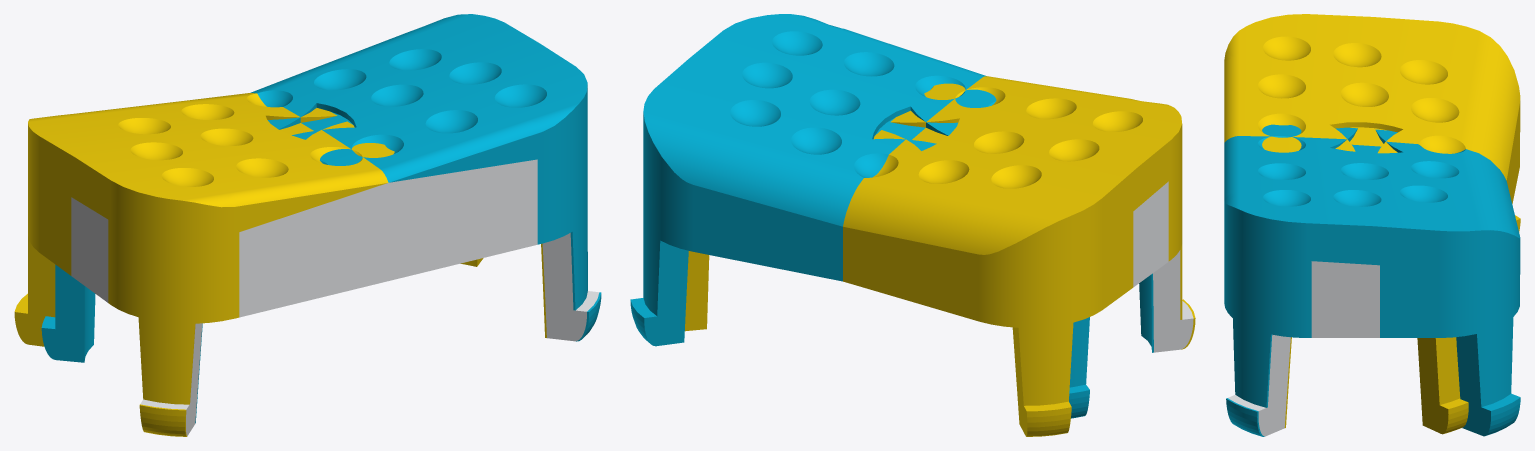
3 renders of one model, left to right at view 1: azimuth 30°, elevation 25°; view 2: azimuth 150°, elevation 25°; view 3: azimuth 270°, elevation 25°, orthographic. The views are drawn at different scales.
Parts seen in each view (by area): view 1: =>[0:1:1:17], =>[0:1:1:9], =>[0:1:1:2], =>[0:1:1:8], =>[0:1:1:22], =>[0:1:1:10]; view 2: =>[0:1:1:17], =>[0:1:1:9], =>[0:1:1:2], =>[0:1:1:8], =>[0:1:1:16], =>[0:1:1:13], =>[0:1:1:10]; view 3: =>[0:1:1:9], =>[0:1:1:17], =>[0:1:1:2], =>[0:1:1:16], =>[0:1:1:14], =>[0:1:1:18], =>[0:1:1:10].
Part boxes in pixels (<box>): =>[0:1:1:17]: <box>14,93,388,404</box>; =>[0:1:1:9]: <box>250,14,587,310</box>; =>[0:1:1:2]: <box>71,159,599,435</box>; =>[0:1:1:8]: <box>41,264,95,362</box>; =>[0:1:1:22]: <box>139,404,187,436</box>; =>[0:1:1:10]: <box>320,149,362,165</box>; =>[0:1:1:17]: <box>843,76,1182,436</box>; =>[0:1:1:9]: <box>630,14,986,346</box>; =>[0:1:1:2]: <box>1133,181,1193,352</box>; =>[0:1:1:8]: <box>1069,317,1089,418</box>; =>[0:1:1:16]: <box>685,251,709,331</box>; =>[0:1:1:13]: <box>1139,273,1153,352</box>; =>[0:1:1:10]: <box>955,89,996,107</box>; =>[0:1:1:9]: <box>1224,136,1520,436</box>; =>[0:1:1:17]: <box>1224,14,1520,232</box>; =>[0:1:1:2]: <box>1228,261,1379,436</box>; =>[0:1:1:16]: <box>1417,337,1468,434</box>; =>[0:1:1:14]: <box>1226,398,1264,436</box>; =>[0:1:1:18]: <box>1262,136,1301,152</box>; =>[0:1:1:10]: <box>1262,124,1301,137</box>.
Size of the model in its own units: 38.92 by 18.99 by 23.32.
